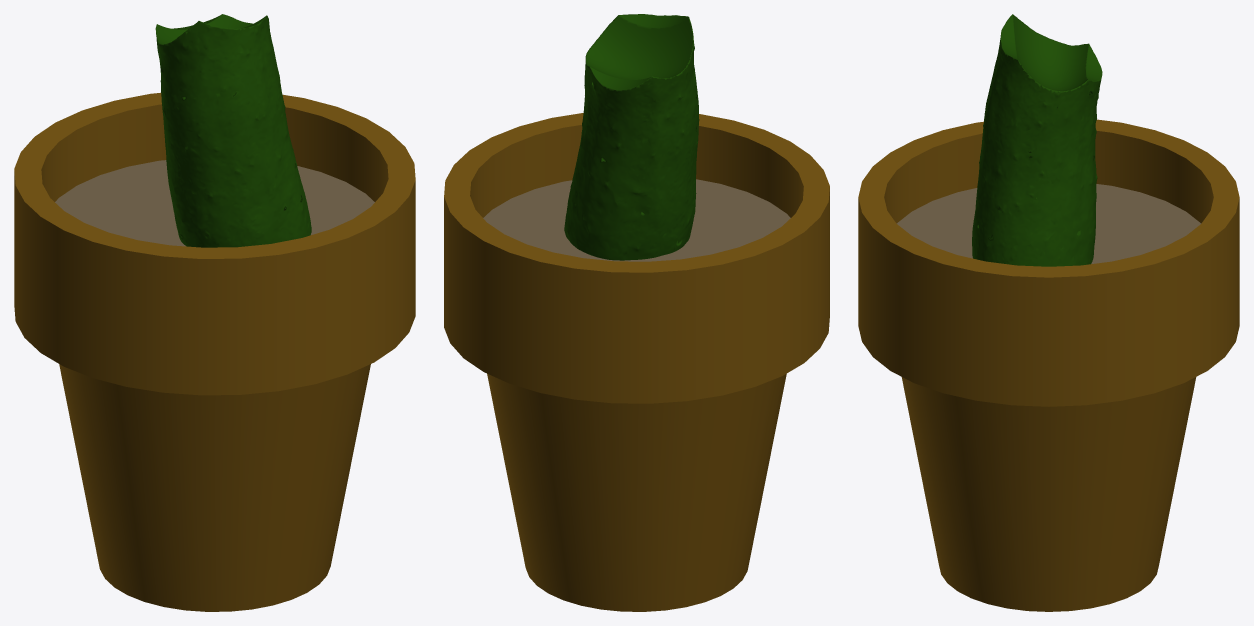
Rendered from krukagurkisT2.fbx.
3 renders of one model, left to right at view 1: azimuth 30°, elevation 25°; view 2: azimuth 150°, elevation 25°; view 3: azimuth 270°, elevation 25°, orthographic. The views are drawn at different scales.
Visible parts, largest first — view 1: Stereo textured mesh; view 2: Stereo textured mesh; view 3: Stereo textured mesh.
Boxes of the visible parts, x1,y1,x2,y2 form: Stereo textured mesh: (14, 14, 415, 611); Stereo textured mesh: (444, 14, 829, 611); Stereo textured mesh: (858, 14, 1239, 611).
Bounding box in the file's own units: 84 × 130 × 84.
